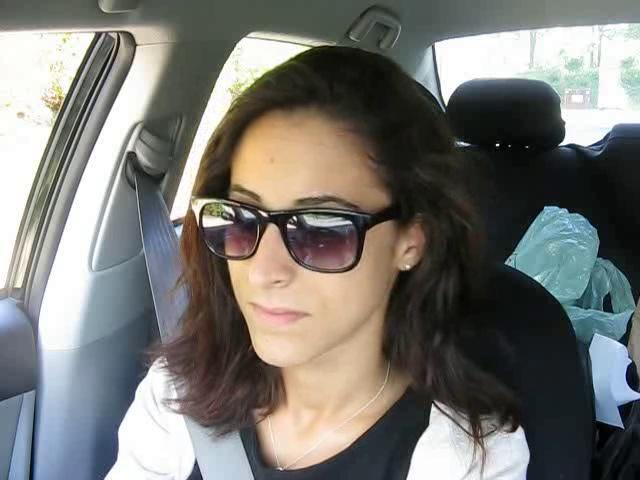no_yawn: (232, 293, 326, 337)
